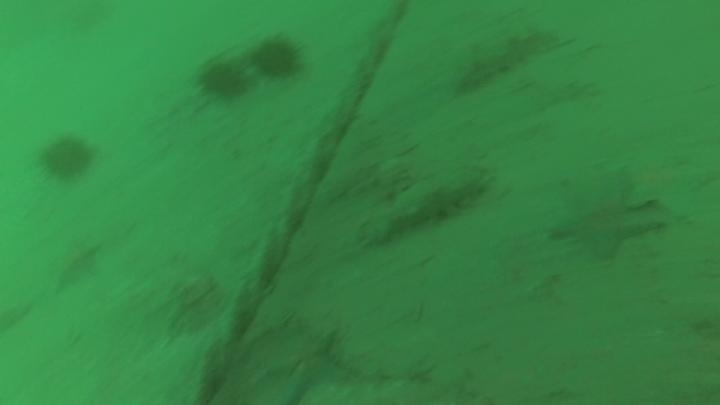echinus: (37, 132, 97, 183), (250, 34, 305, 81), (195, 57, 250, 102)
holothurian: (359, 166, 493, 248), (449, 23, 565, 97)
starfish: (548, 168, 664, 265), (614, 152, 717, 221), (263, 324, 351, 404), (48, 237, 103, 295)
